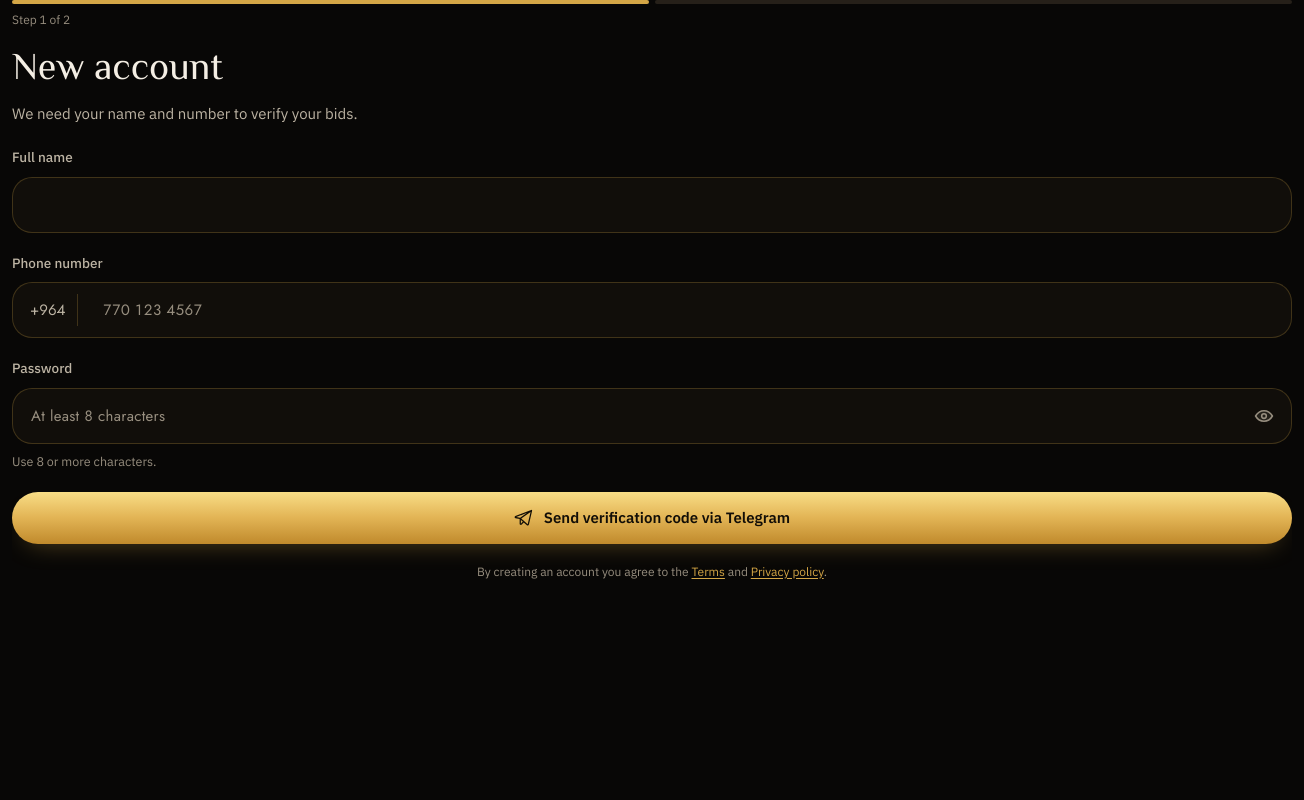
Test: RegisterForm — sign-up with OTP › shows the per-phone limit error when requesting a code
Type "Ali Hassan" into the field labelled "Full name" at (652, 205), box [12,177,1292,233]
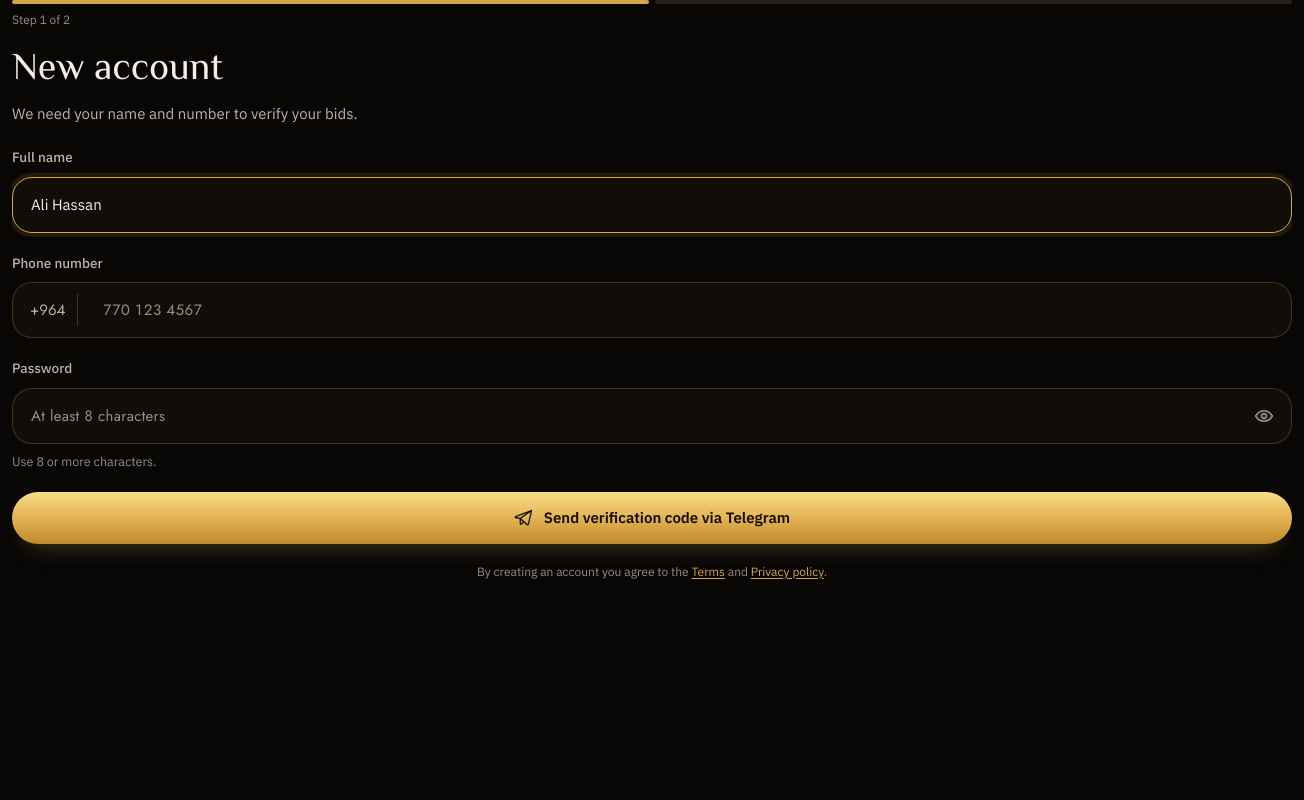
Type "+9647701234567" into the field labelled "Phone number" at (652, 310), box [12,282,1292,338]
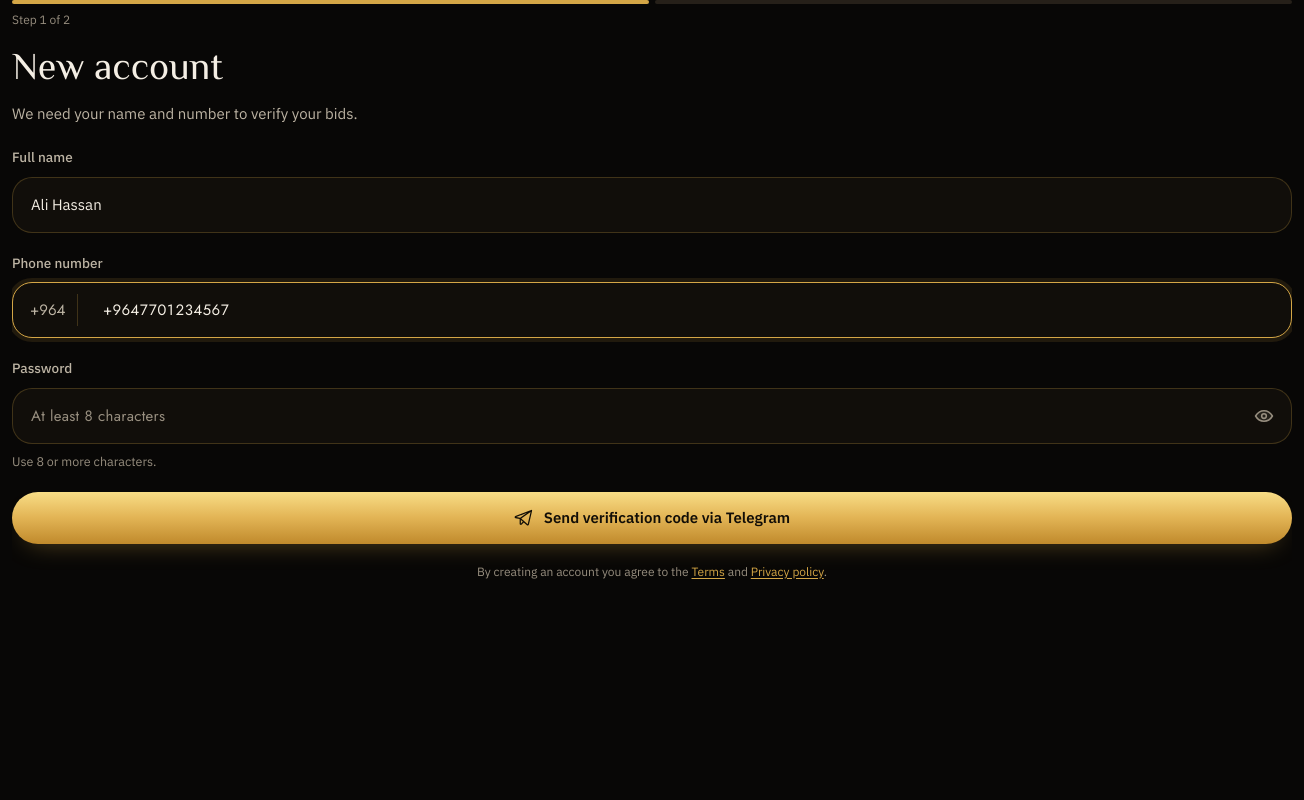
Type "validpassword123" into the password field labelled "Password" at (652, 416), box [12,388,1292,444]
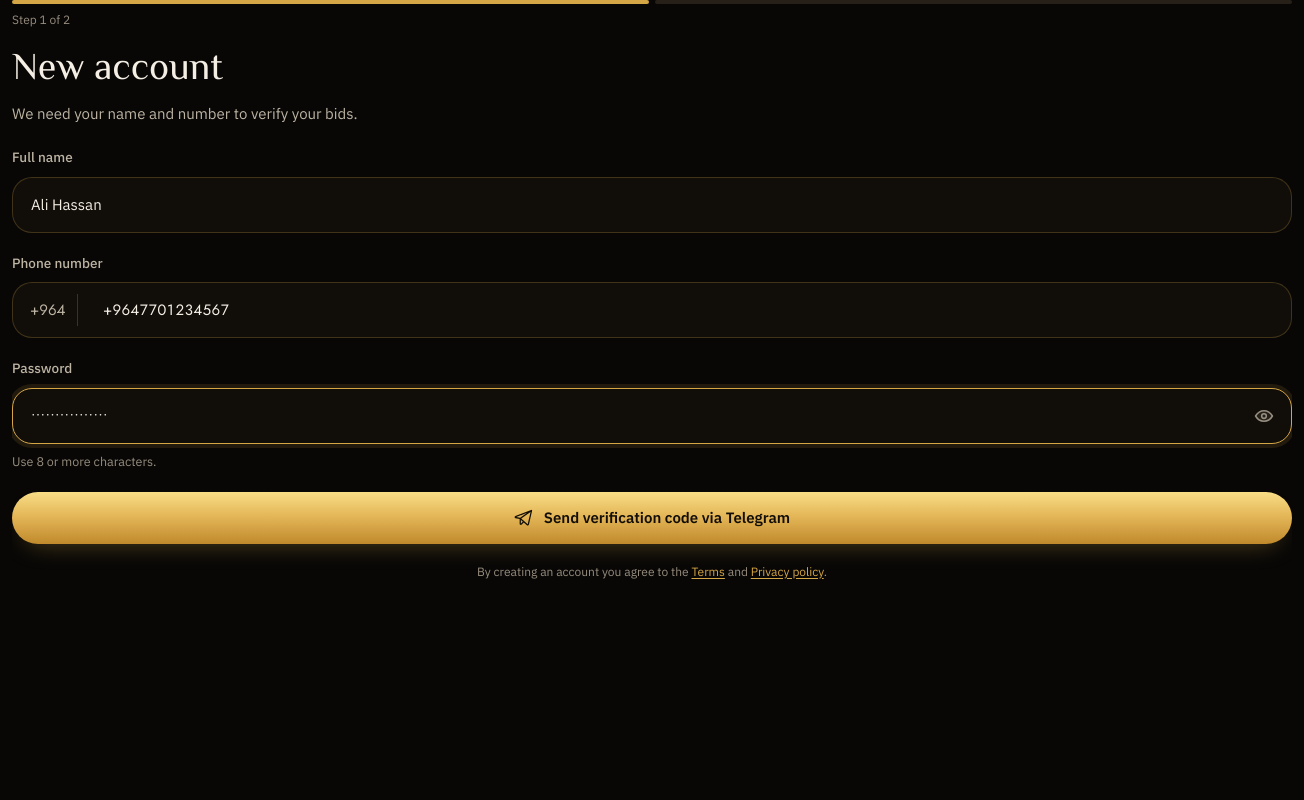
Click the button "Send verification code via Telegram" at (652, 518), box [12,492,1292,544]
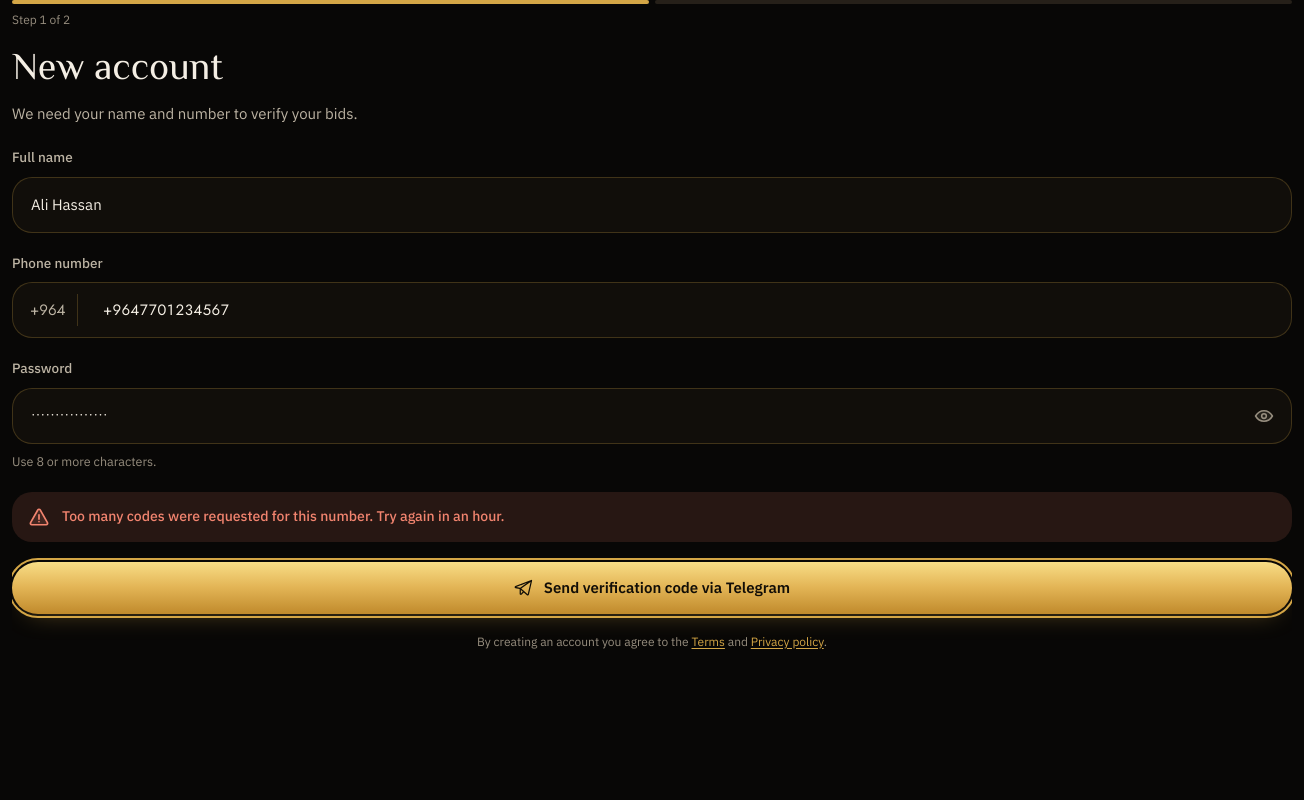
Expected: the message shows "Try again in an hour", [62,506,505,527]
